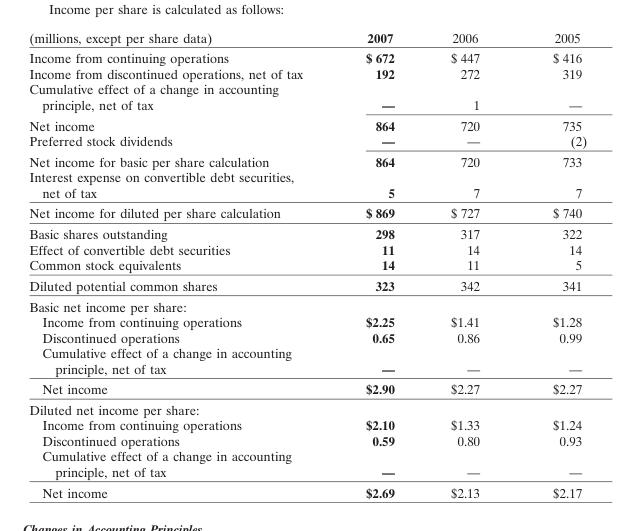table: (28, 29, 586, 499)
table column: (28, 29, 333, 499), (421, 29, 515, 499), (333, 29, 421, 499), (515, 29, 586, 499)
table column header: (28, 29, 586, 47)
table projected row header: (28, 398, 586, 417), (28, 295, 586, 313), (28, 168, 586, 184), (28, 344, 586, 360), (28, 81, 586, 96), (28, 448, 586, 463)
table row: (28, 202, 586, 223), (28, 274, 586, 295), (28, 378, 586, 398), (28, 398, 586, 417), (28, 29, 586, 47), (28, 47, 586, 65), (28, 96, 586, 114), (28, 114, 586, 132), (28, 132, 586, 150), (28, 150, 586, 168), (28, 184, 586, 202), (28, 223, 586, 241), (28, 256, 586, 274), (28, 295, 586, 313), (28, 360, 586, 378), (28, 463, 586, 481), (28, 481, 586, 499), (28, 65, 586, 81), (28, 168, 586, 184), (28, 313, 586, 329), (28, 344, 586, 360), (28, 432, 586, 448), (28, 81, 586, 96), (28, 241, 586, 256), (28, 329, 586, 344), (28, 417, 586, 432), (28, 448, 586, 463)
